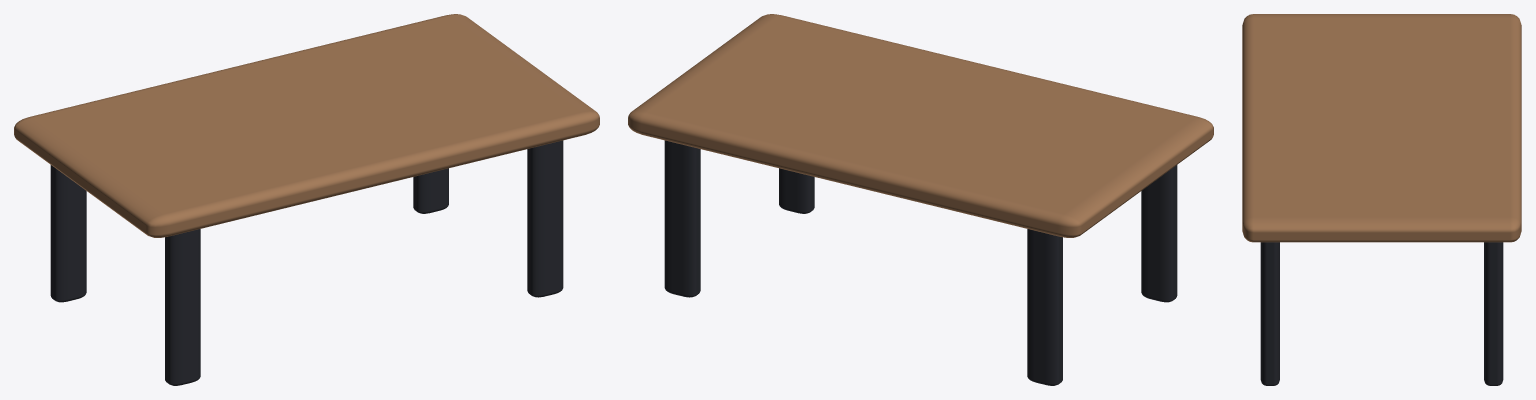
Rendered from coffee-table.glb.
3 renders of one model, left to right at view 1: azimuth 30°, elevation 25°; view 2: azimuth 150°, elevation 25°; view 3: azimuth 270°, elevation 25°, orthographic. The views are drawn at different scales.
Size of the model in its own units: 1.1 by 0.42 by 0.6.
